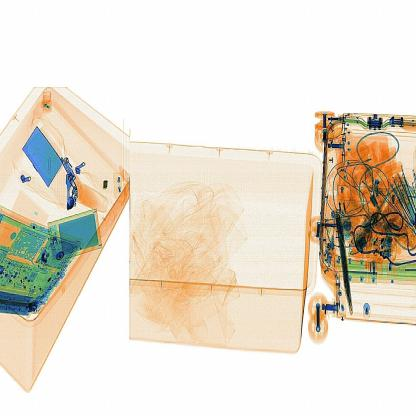wrench: (96, 176, 114, 196)
